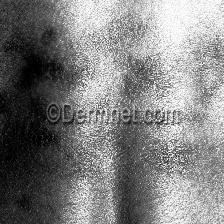Benign Marking or Mole: (150, 139, 196, 173)
